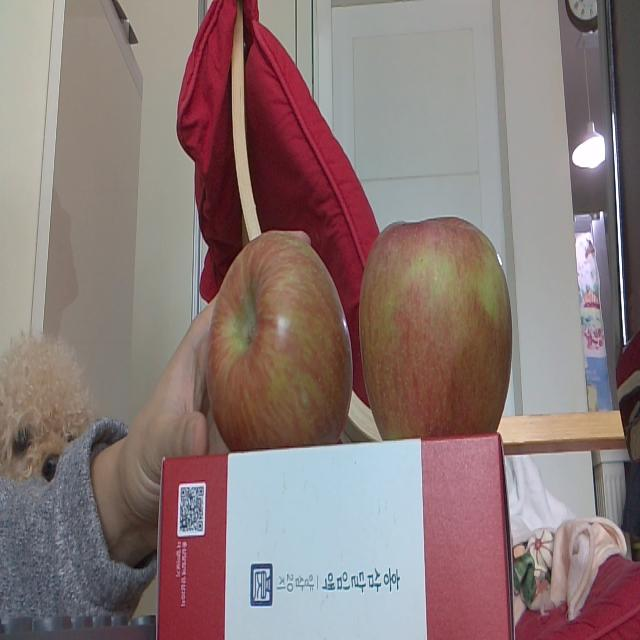apple: (361, 223, 513, 432), (207, 231, 353, 443)
